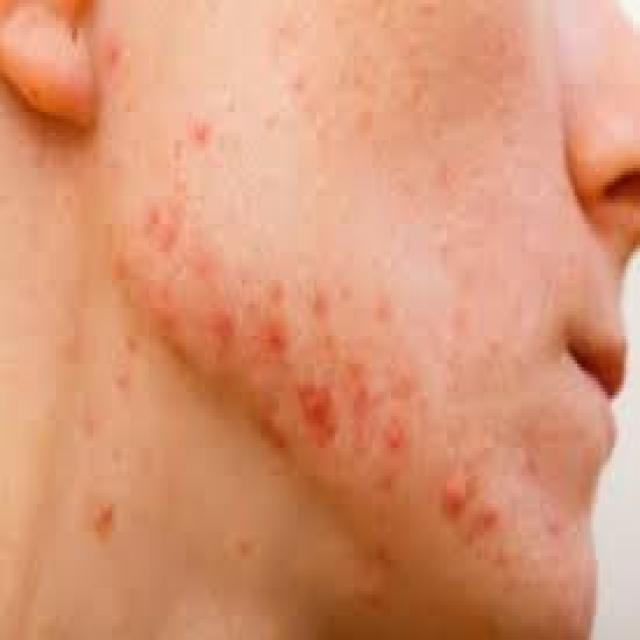Acne: (295, 379, 339, 455), (346, 354, 378, 458), (144, 192, 186, 248), (198, 294, 239, 342), (440, 465, 472, 520), (88, 494, 119, 539), (303, 278, 329, 320), (192, 244, 220, 282), (187, 109, 214, 148), (264, 271, 290, 311), (382, 416, 408, 452), (371, 292, 395, 328), (266, 322, 292, 355), (480, 498, 504, 532), (542, 504, 563, 535), (397, 362, 418, 391), (290, 68, 308, 97)
